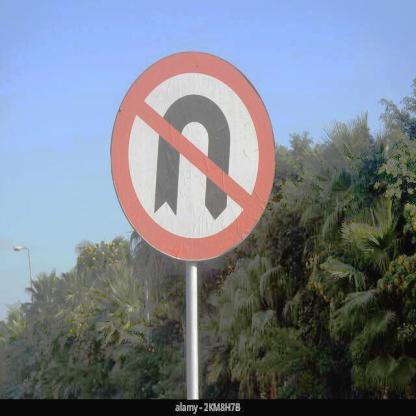No U-turn: (106, 46, 281, 266)
